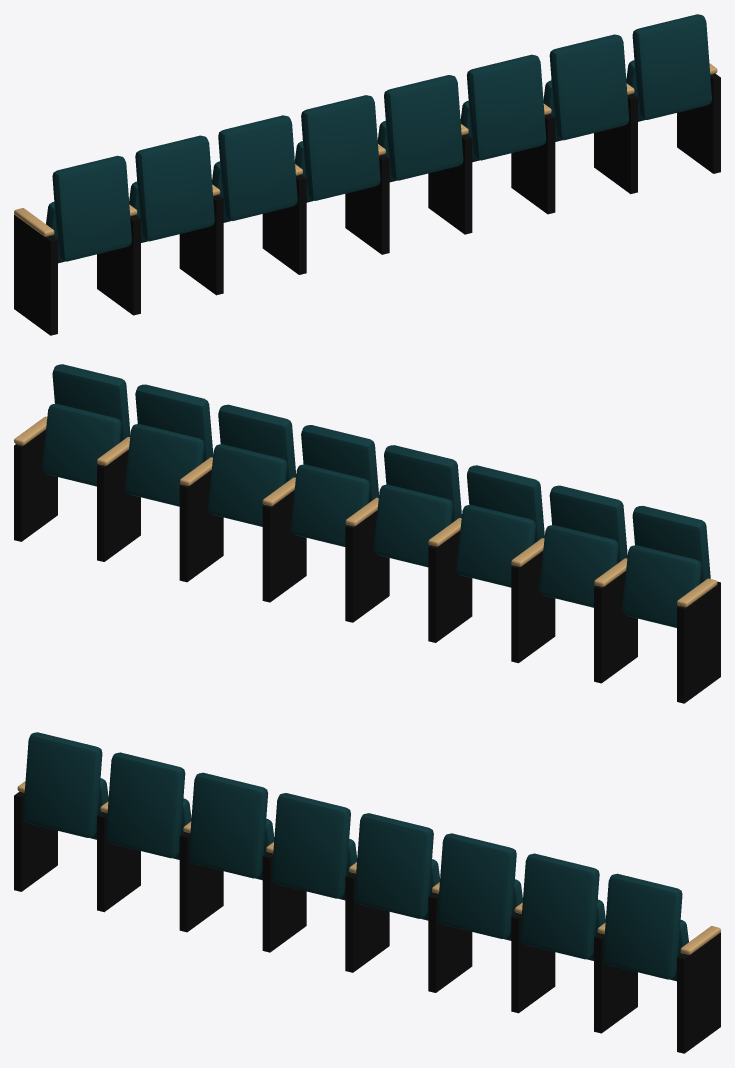
Rendered from venue.seat.cinema_row_8.glb.
The picture shows the model from 3 angles, top to bottom: view 1: azimuth 30°, elevation 25°; view 2: azimuth 150°, elevation 25°; view 3: azimuth 330°, elevation 25°; orthographic projection.
Visible parts, largest first — view 1: main__velvet_teal, main__plastic_black, main__glulam; view 2: main__velvet_teal, main__plastic_black, main__glulam; view 3: main__velvet_teal, main__plastic_black, main__glulam.
Boxes of the visible parts, x1,y1,x2,y2 form: main__velvet_teal: (46, 14, 711, 263); main__plastic_black: (14, 73, 720, 335); main__glulam: (14, 63, 717, 236); main__velvet_teal: (42, 364, 710, 627); main__plastic_black: (14, 429, 720, 703); main__glulam: (14, 416, 717, 607); main__velvet_teal: (23, 732, 688, 981); main__plastic_black: (14, 791, 720, 1053); main__glulam: (17, 781, 720, 954).
Size of the model in its own units: 4.47 by 0.9937 by 0.4622.
